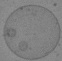small: (6, 28, 17, 38), (18, 41, 28, 50)
